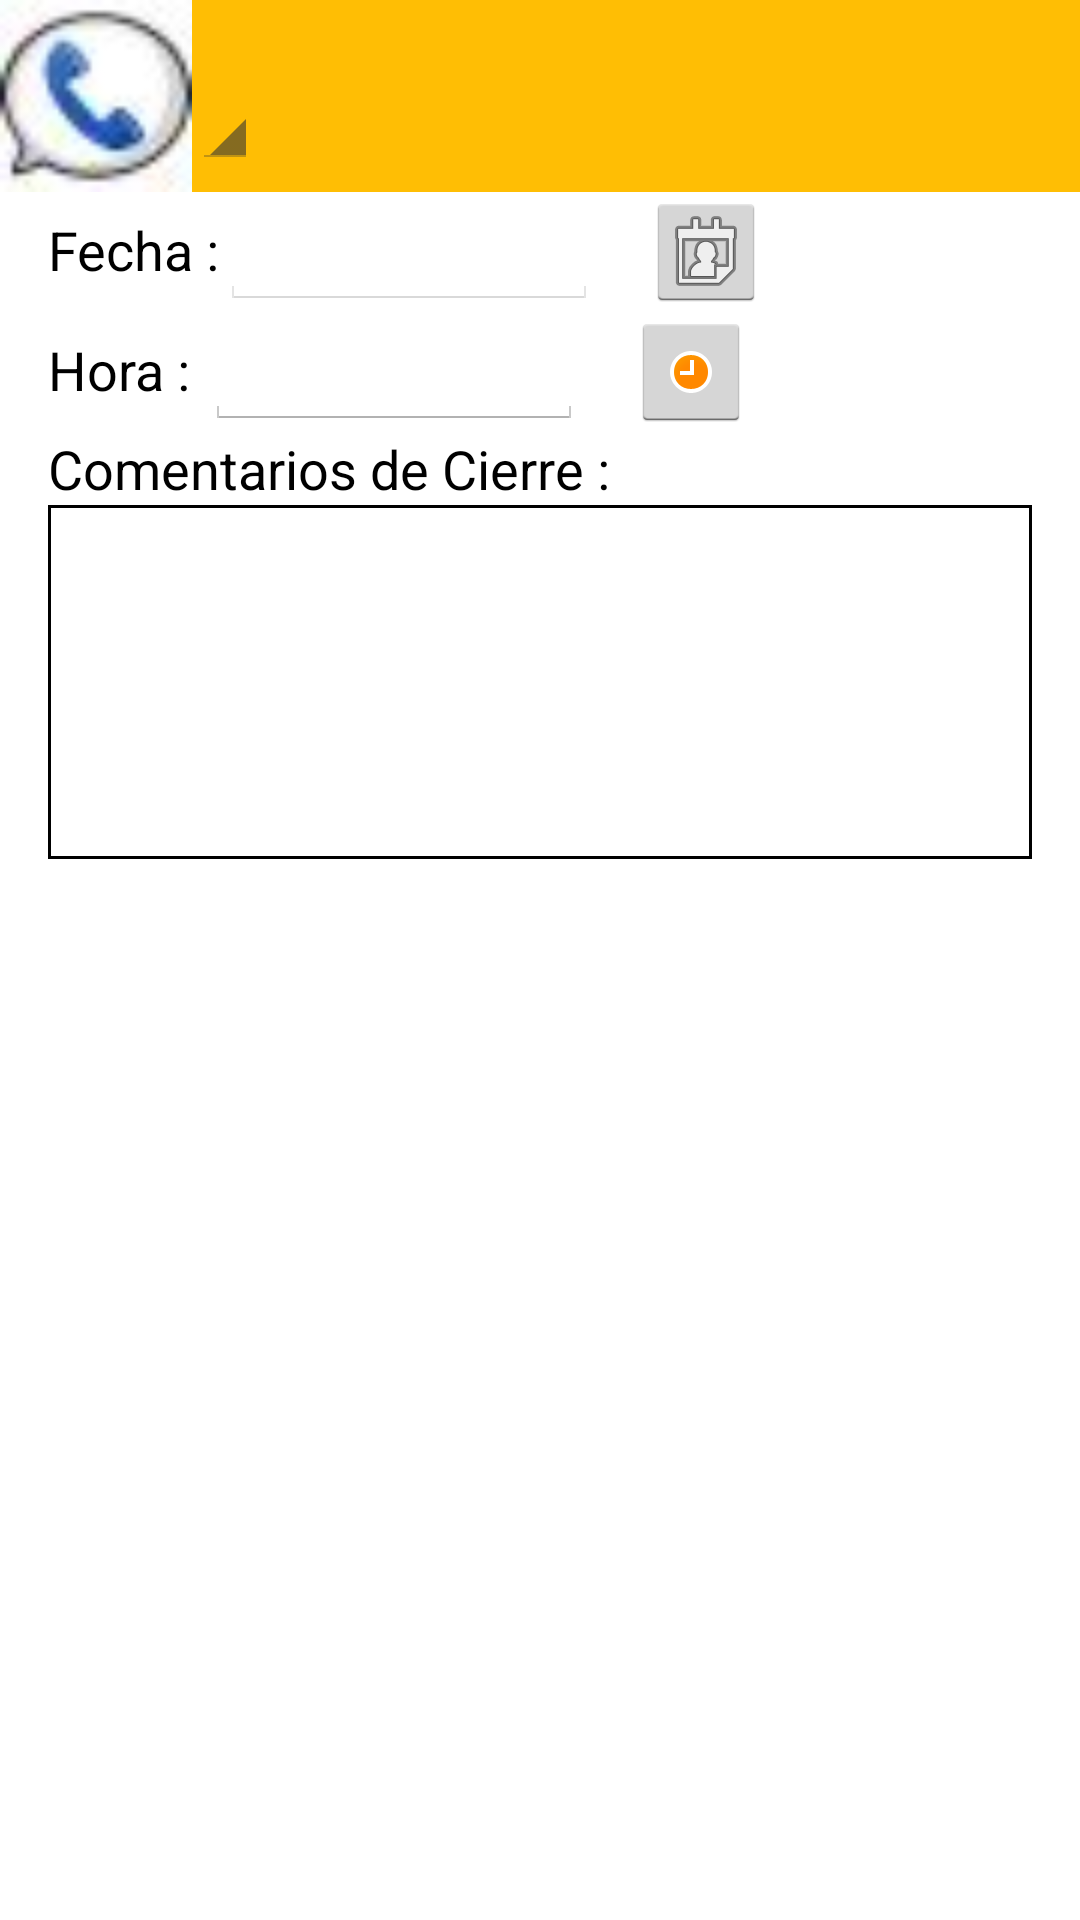

Where icons sit on this 1080px x 1920px app screen, as (x1, y1, x2, y2):
calendar: (658, 205, 754, 301)
presence away: (643, 325, 739, 421)
